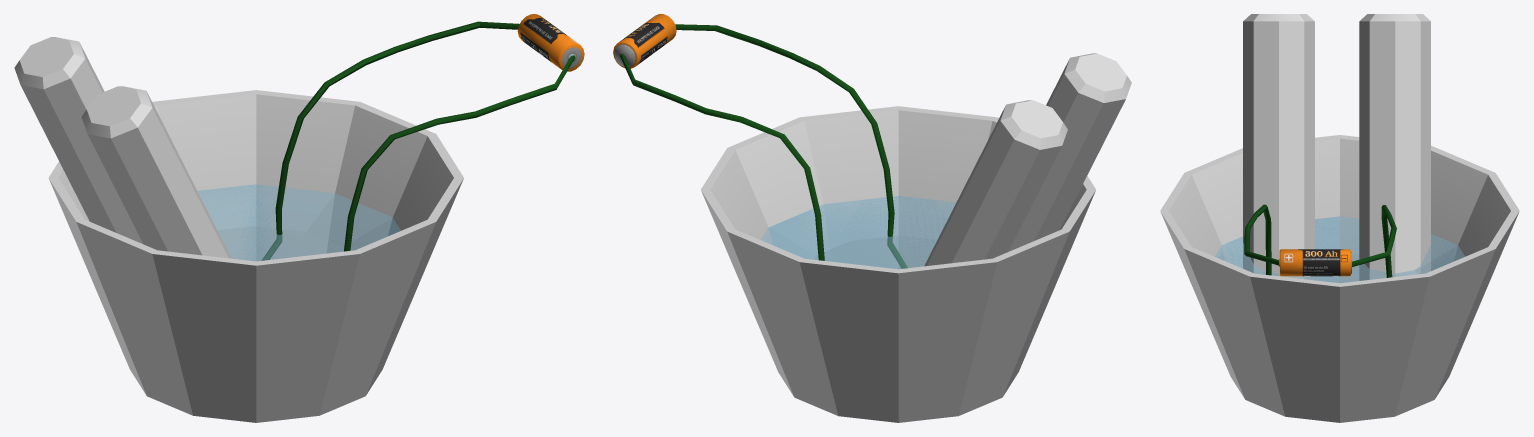
Rendered from liquid electricty (2).fbx.
The picture shows the model from 3 angles, left to right: view 1: azimuth 30°, elevation 25°; view 2: azimuth 150°, elevation 25°; view 3: azimuth 270°, elevation 25°; orthographic projection. The views are drawn at different scales.
Parts seen in each view (by area): view 1: beacker2, tube_water1, beacker_water1, tube_water2, pCylinder5, pCylinder4, battery1; view 2: beacker2, tube_water2, beacker_water1, tube_water1, pCylinder4, pCylinder5, battery1; view 3: beacker2, tube_water2, tube_water1, beacker_water1, battery1, pCylinder4, pCylinder5.
Part boxes in pixels (<box>): beacker2: <box>48,90,463,422</box>; tube_water1: <box>81,86,231,258</box>; beacker_water1: <box>197,184,400,261</box>; tube_water2: <box>14,37,142,243</box>; pCylinder5: <box>261,21,519,260</box>; pCylinder4: <box>344,55,575,251</box>; battery1: <box>517,14,584,71</box>; beacker2: <box>701,106,1095,422</box>; tube_water2: <box>924,100,1067,266</box>; beacker_water1: <box>761,195,955,269</box>; tube_water1: <box>1008,53,1131,251</box>; pCylinder4: <box>675,24,907,268</box>; pCylinder5: <box>620,53,824,260</box>; battery1: <box>613,14,676,68</box>; beacker2: <box>1160,135,1519,422</box>; tube_water2: <box>1359,14,1430,280</box>; tube_water1: <box>1243,14,1314,280</box>; beacker_water1: <box>1215,216,1464,283</box>; battery1: <box>1279,249,1351,276</box>; pCylinder4: <box>1244,204,1278,275</box>; pCylinder5: <box>1352,205,1396,277</box>.
Size of the model in its own units: 61.91 by 40.8 by 44.75.
Materials: 6 (1 with a texture image).
